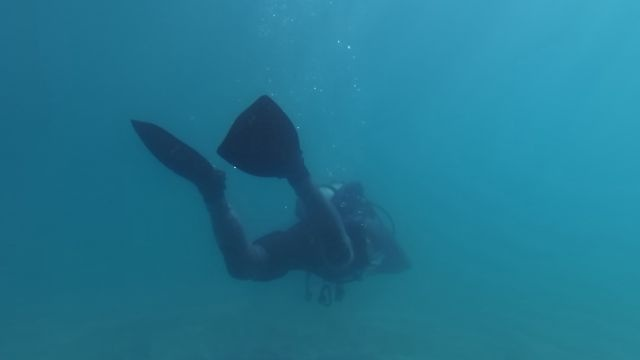Diver: (120, 82, 415, 312)
